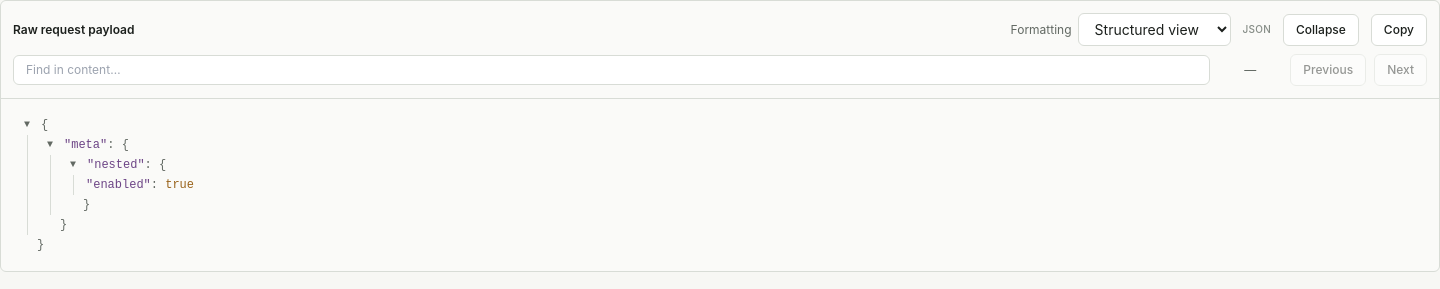
Test case: SearchableContentViewer › collapses and expands nested JSON scopes
Step 1. Click the button "Collapse" → (1321, 30), box 1283,14 -> 1359,46
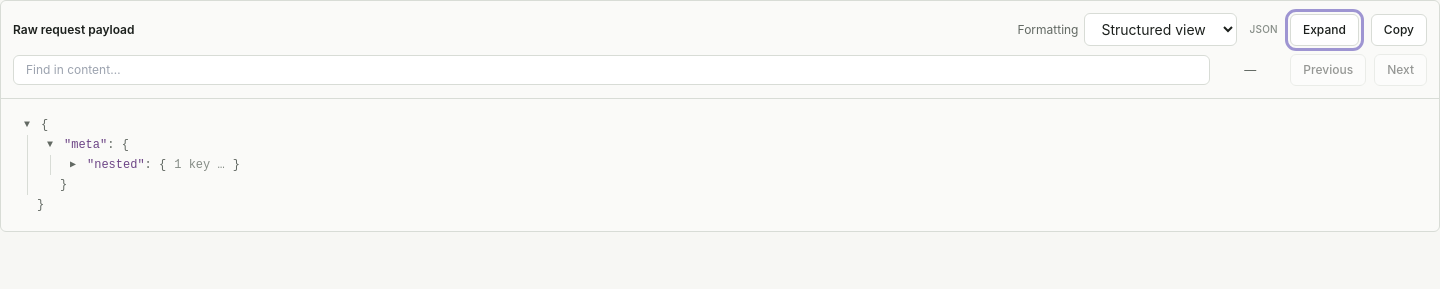
Expected: the text "\"meta\"" is shown, 64,138 -> 107,152
Expected: the text "true" is gone
Expected: the button "Expand" is shown
Step 2. Click the button "Expand" → (1324, 30), box 1290,14 -> 1359,46
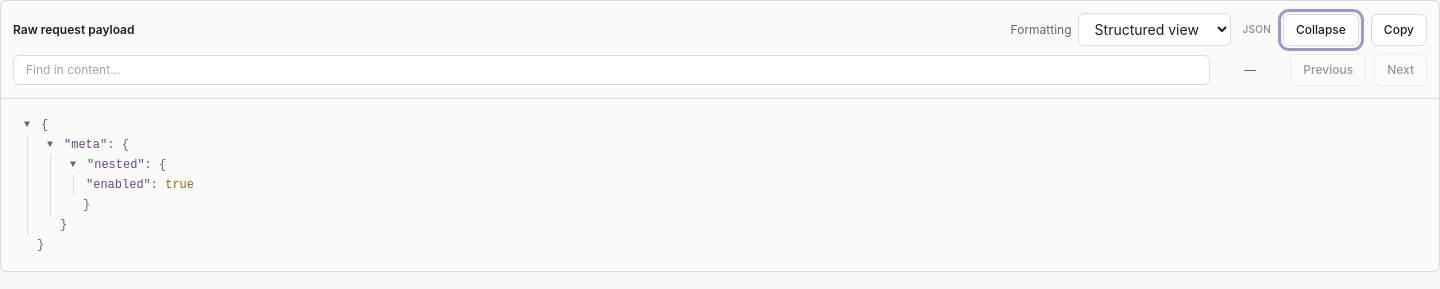
Expected: the text "true" is shown, 165,178 -> 194,192
Step 3. Click the button named "Collapse meta" → (50, 145), box 40,135 -> 60,155
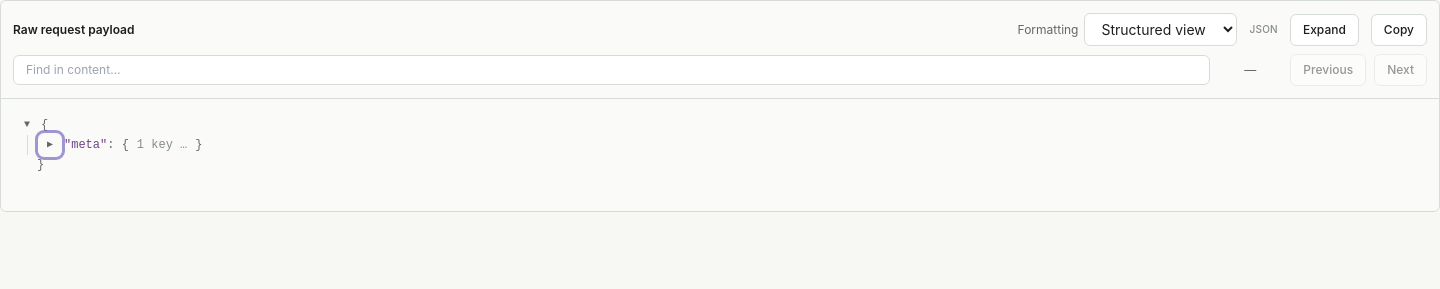
Expected: the text "true" is gone
Expected: the button "Expand" is shown, 1290,14 -> 1359,46
Step 4. Click the button named "Expand meta" → (50, 145), box 40,135 -> 60,155
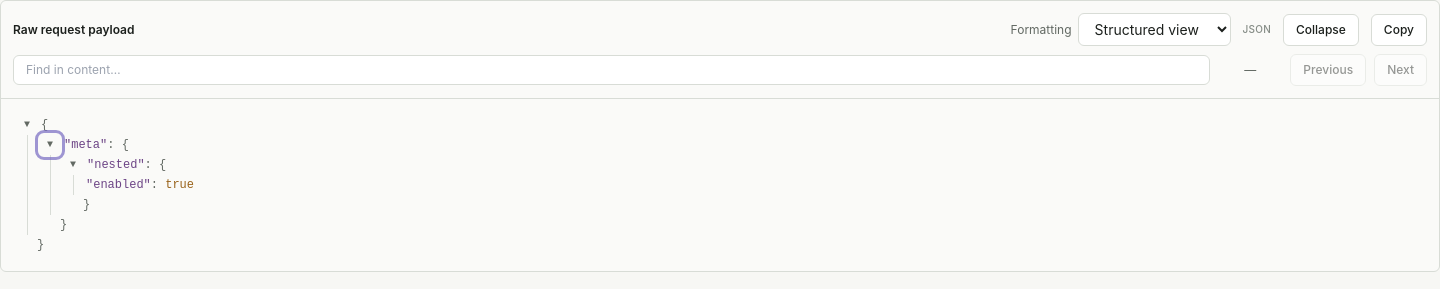
Expected: the text "true" is shown, 165,178 -> 194,192
